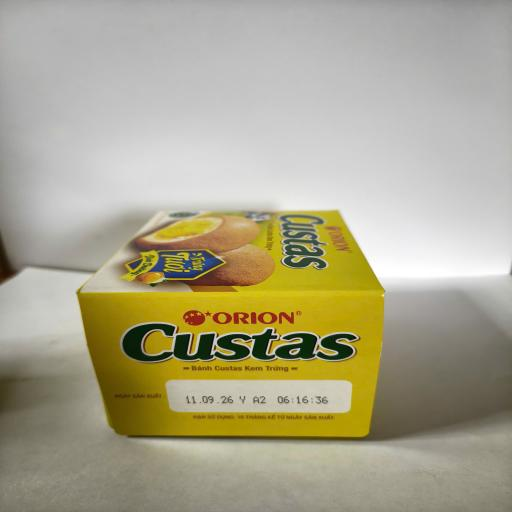custas: (75, 210, 385, 438)
